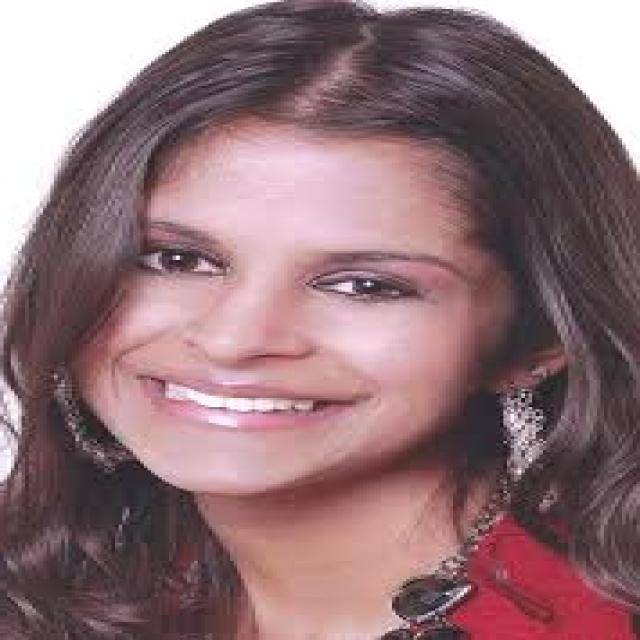stroke_face: (28, 43, 588, 506)
